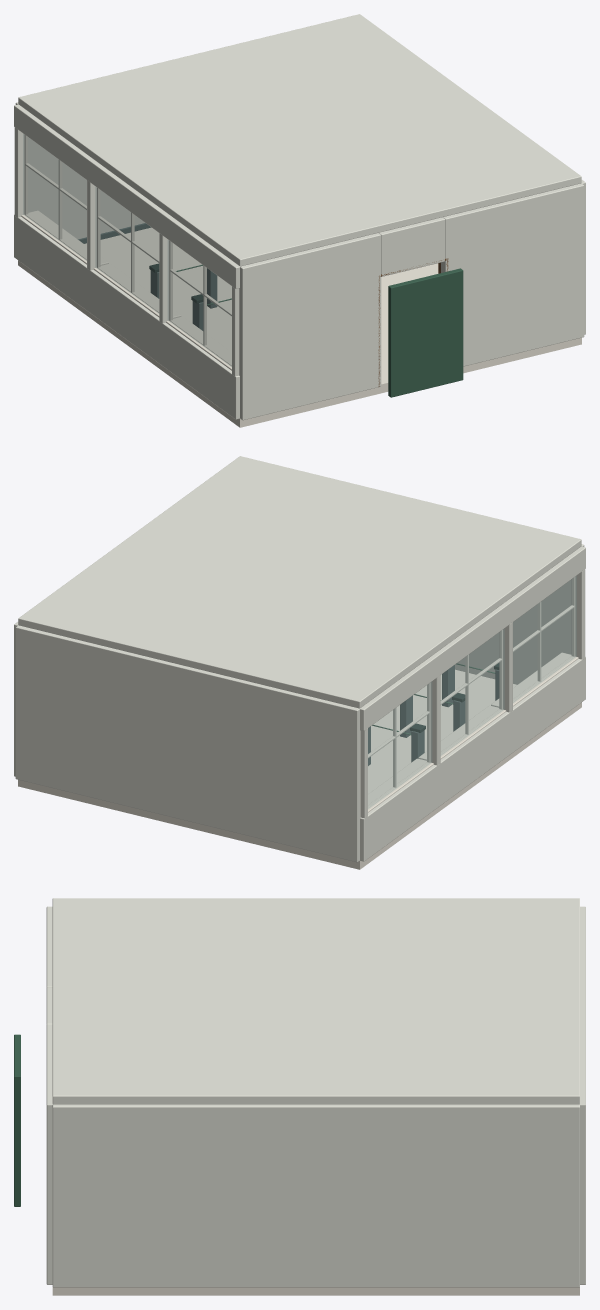
The picture shows the model from 3 angles, top to bottom: view 1: azimuth 30°, elevation 25°; view 2: azimuth 150°, elevation 25°; view 3: azimuth 270°, elevation 25°; orthographic projection. The views are drawn at different scales.
Visible parts, largest first — view 1: 1-4__architecture_and_equipment; view 2: 1-4__architecture_and_equipment; view 3: 1-4__architecture_and_equipment.
Boxes of the visible parts, x1,y1,x2,y2 form: 1-4__architecture_and_equipment: (14, 14, 585, 427); 1-4__architecture_and_equipment: (14, 456, 585, 869); 1-4__architecture_and_equipment: (14, 898, 585, 1295).
Size of the model in its own units: 8.2 by 3.76 by 9.76.
13 materials, 1 textured.
